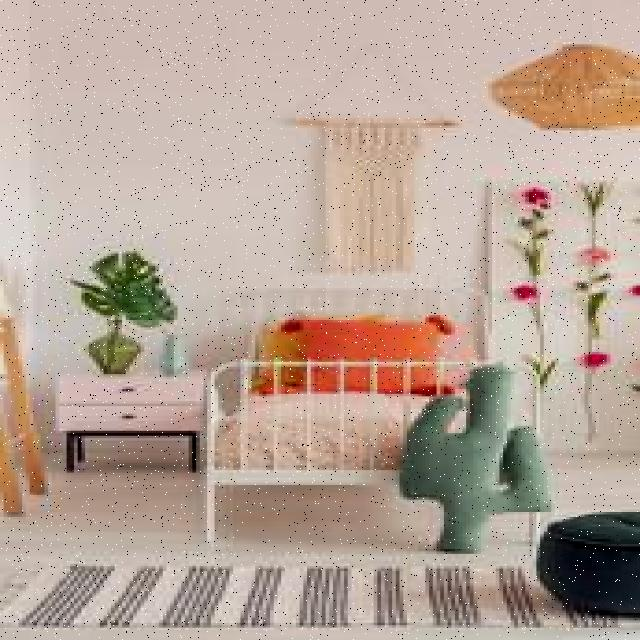bed: (190, 294, 500, 473)
